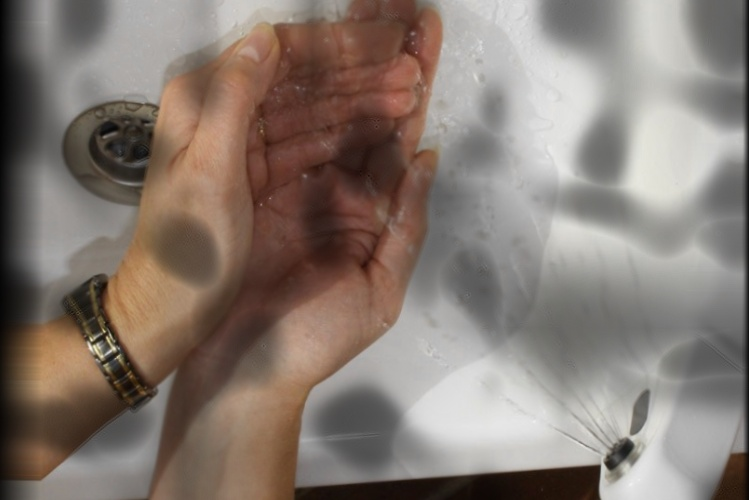washing hand: (96, 0, 705, 499)
